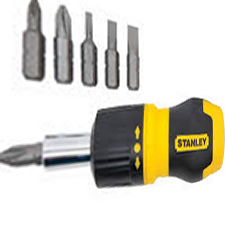Screwdriver: (1, 89, 225, 204)
